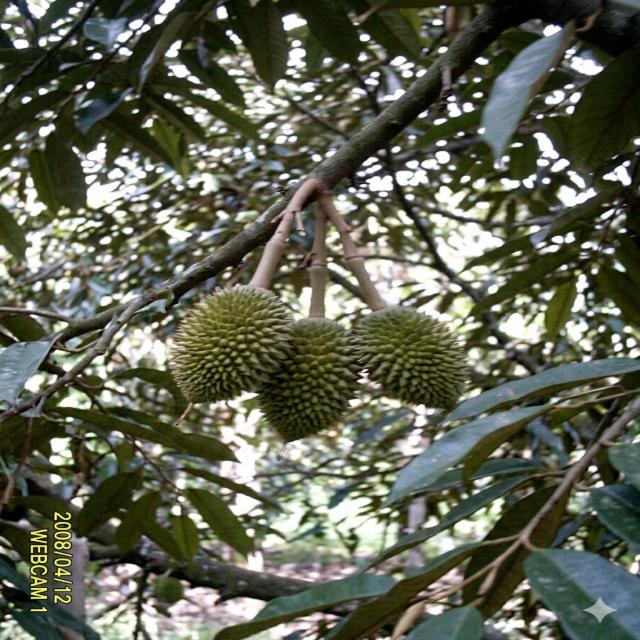immature: (166, 286, 297, 404), (252, 318, 367, 442), (350, 305, 474, 411)
